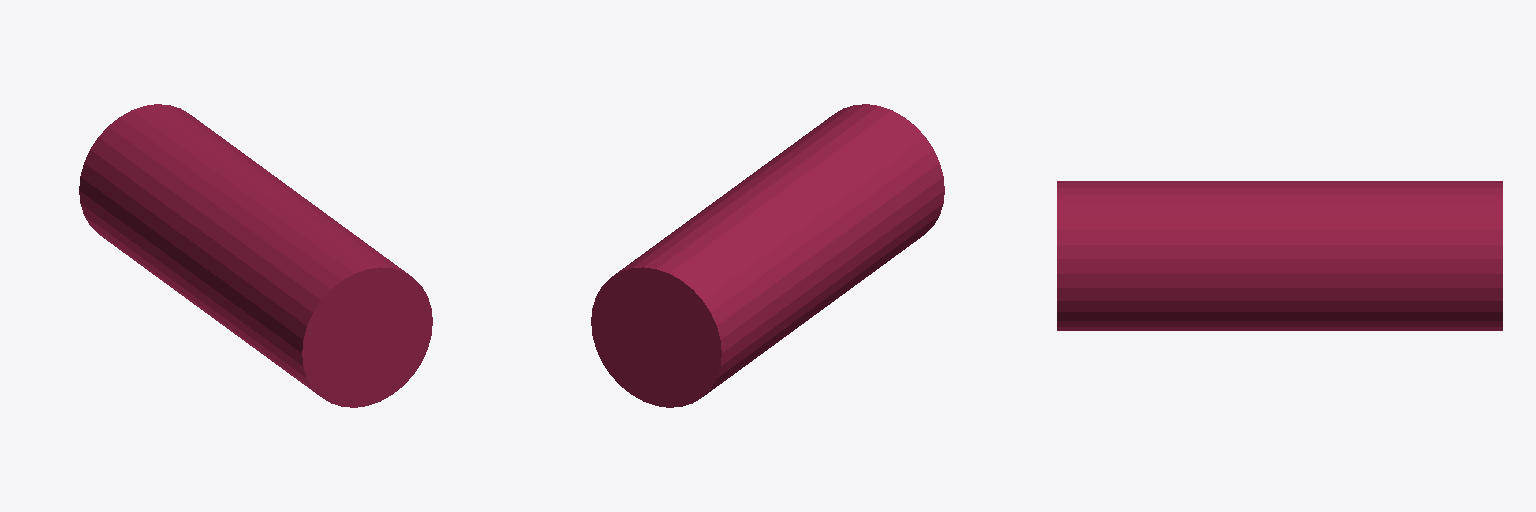
The picture shows the model from 3 angles: view 1: azimuth 30°, elevation 25°; view 2: azimuth 150°, elevation 25°; view 3: azimuth 270°, elevation 25°; orthographic projection.
Parts seen in each view (by area): view 1: /ambf/env/FS6_FS6_Cylinder.034; view 2: /ambf/env/FS6_FS6_Cylinder.034; view 3: /ambf/env/FS6_FS6_Cylinder.034.
Boxes of the visible parts, box(x1,y1,x2,y2) form: /ambf/env/FS6_FS6_Cylinder.034: box(79, 104, 432, 407); /ambf/env/FS6_FS6_Cylinder.034: box(591, 104, 944, 407); /ambf/env/FS6_FS6_Cylinder.034: box(1057, 181, 1502, 330).
Bounding box in the file's own units: 0.2473 × 0.2473 × 0.7307.